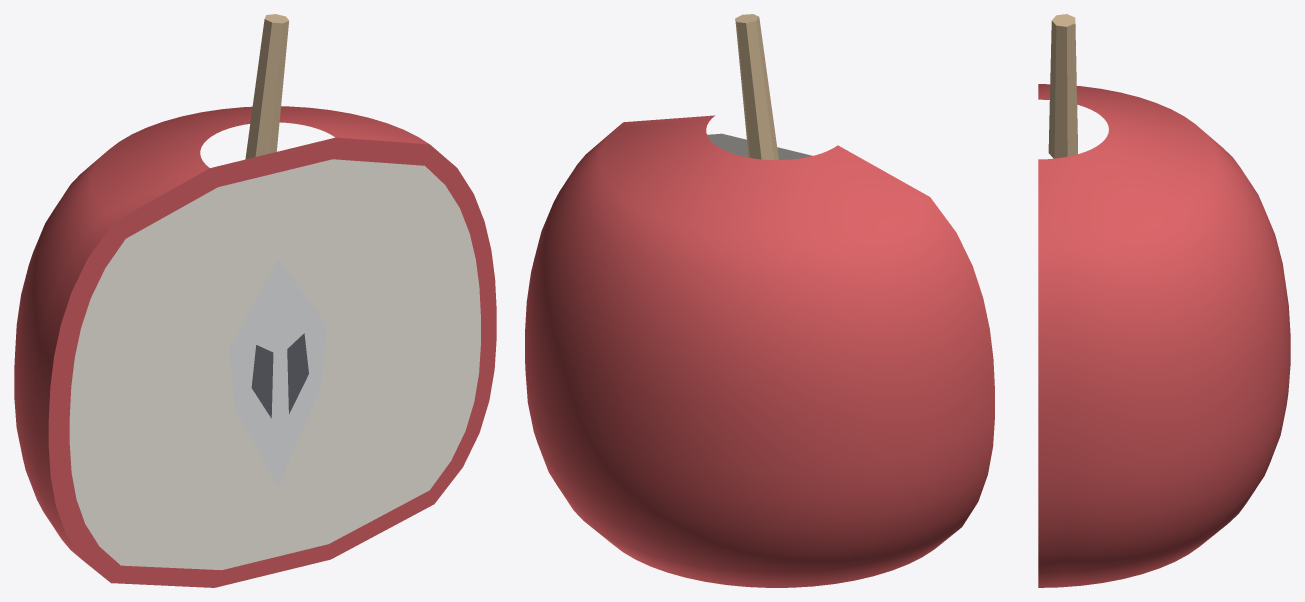
The model's file is fresh-produce-and-groceries-apple-half-74d27628__24314.glb.
3 views of the same model, side by side, from view 1: azimuth 30°, elevation 25°; view 2: azimuth 150°, elevation 25°; view 3: azimuth 270°, elevation 25° (orthographic). The views are drawn at different scales.
Visible parts, largest first — view 1: apple-half; view 2: apple-half; view 3: apple-half.
Part boxes in pixels (x1,y1,x2,y2): apple-half: (14, 14, 496, 587); apple-half: (525, 14, 994, 587); apple-half: (1038, 14, 1290, 587).
Size of the model in its own units: 0.078 by 0.0902 by 0.0413.
